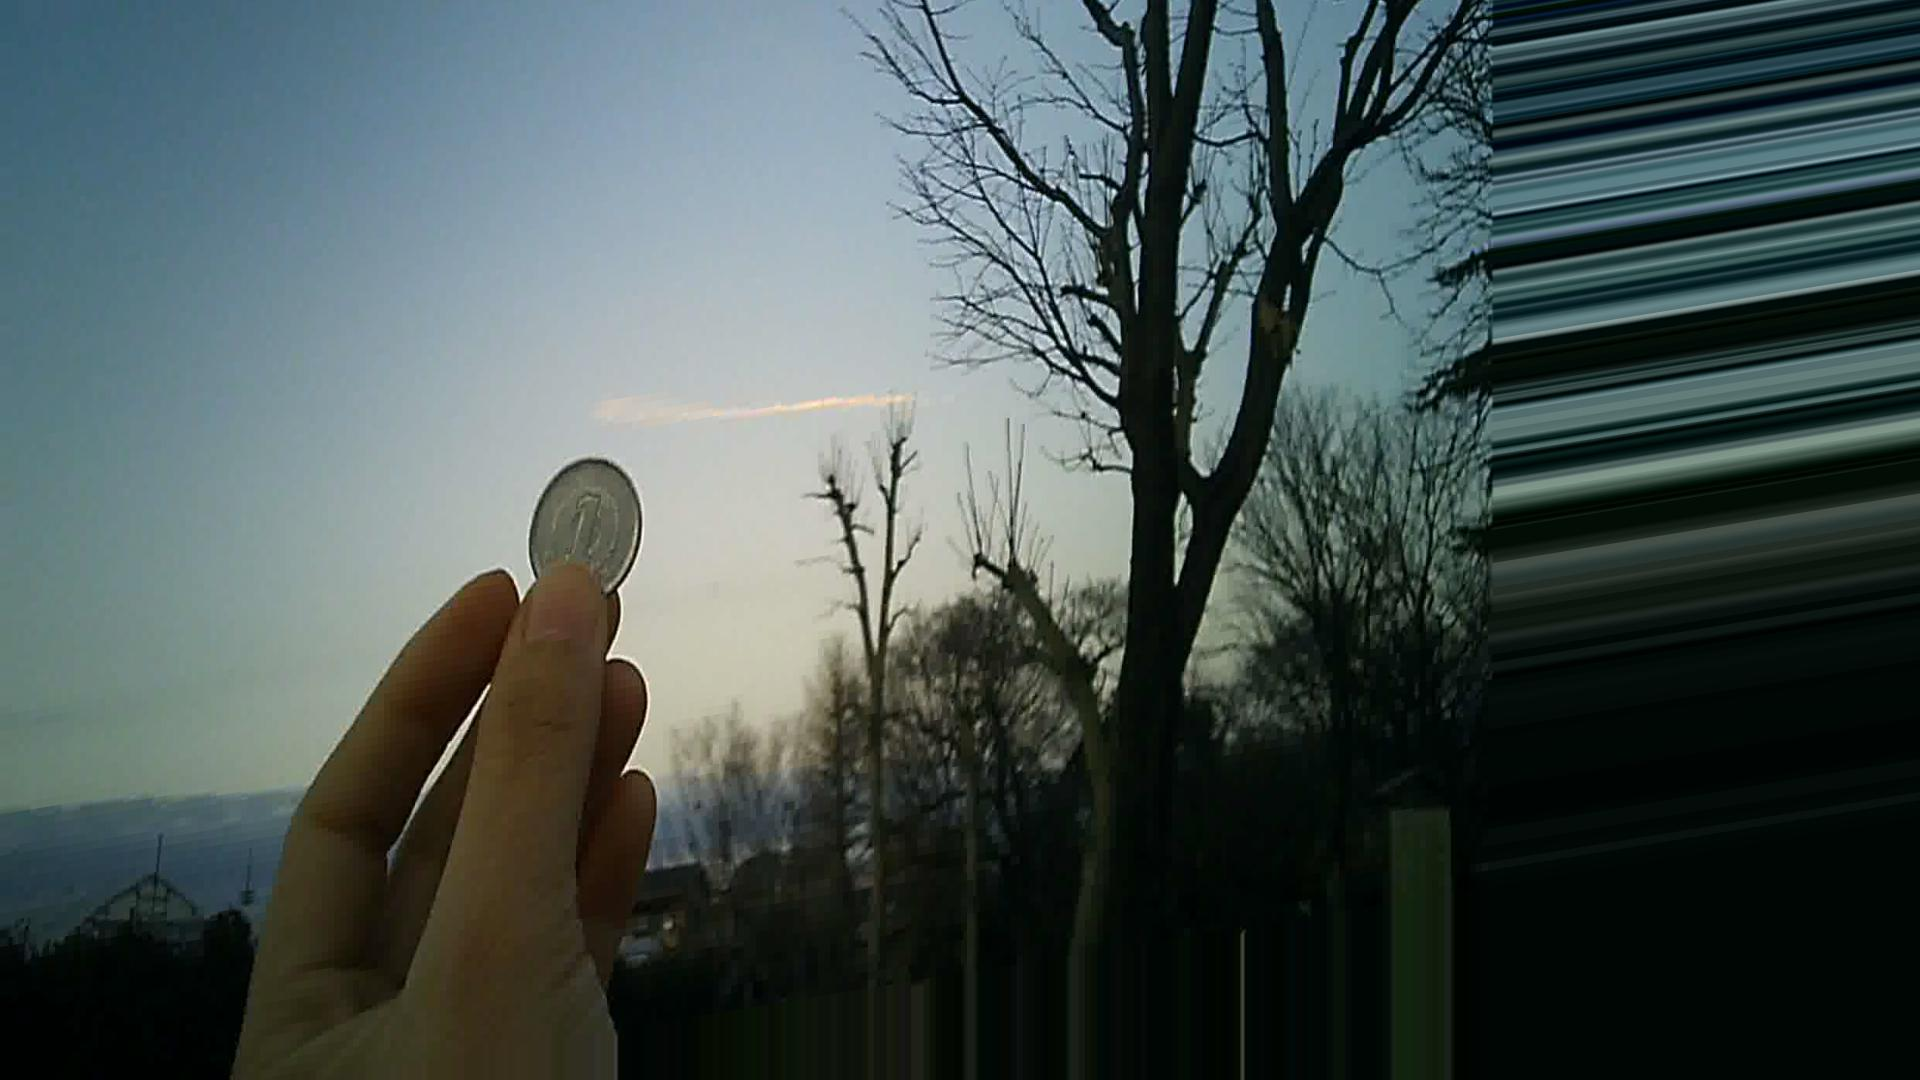1 Yen: (520, 451, 657, 607)
